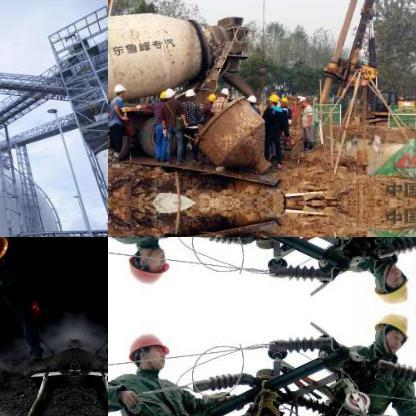Helmet: (124, 326, 171, 372), (124, 242, 171, 288), (372, 309, 410, 353), (372, 261, 410, 305), (111, 80, 125, 98), (265, 92, 279, 108), (0, 237, 7, 264), (162, 86, 174, 100), (184, 87, 196, 101), (206, 91, 216, 105), (219, 84, 229, 98), (246, 92, 256, 106), (298, 94, 308, 107), (156, 90, 166, 102)
